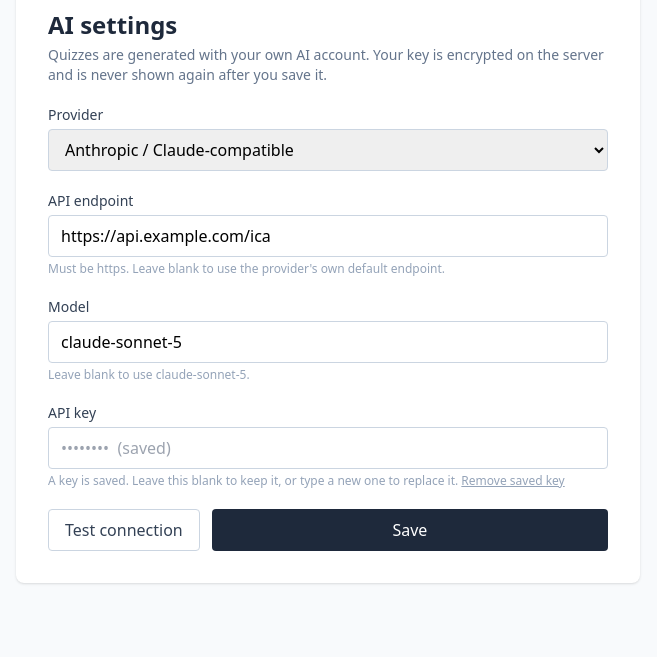
Test: AiSettingsPage › reports a successful test with its latency
The width and height of the screenshot is (657, 657).
Expected: the field showing "claude-sonnet-5" is shown, [48,321,608,363]
Click the button "Test connection" at (124, 530), box [48,509,200,551]
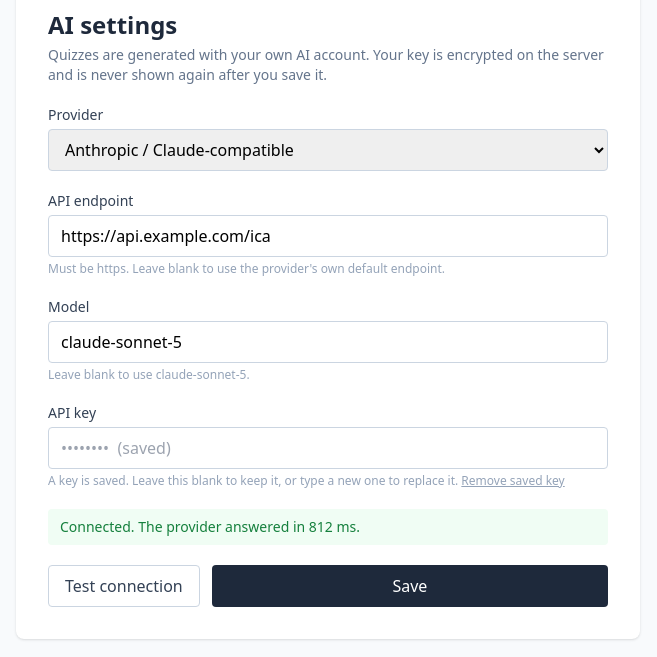
Now the text "Connected. The provider answered in 812 ms." is shown, box [48,509,608,545]
